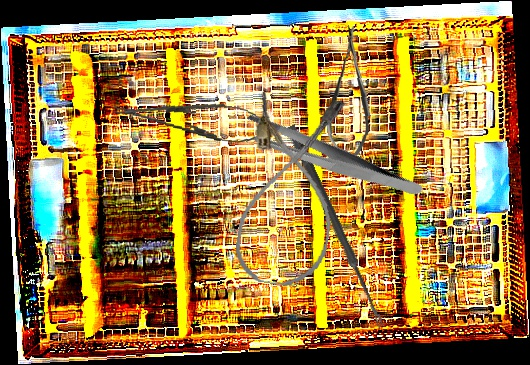Cannula: (231, 88, 350, 292)
Dressing Forceps: (238, 79, 425, 238)
Micro Scissor: (324, 24, 376, 169)
Needle Holder: (110, 90, 279, 148)
Surgical Spoon: (284, 124, 388, 329)
